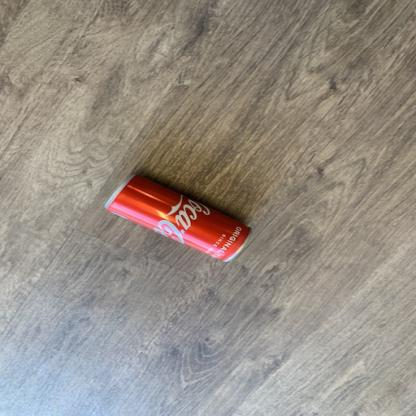trash: (99, 155, 264, 277)
